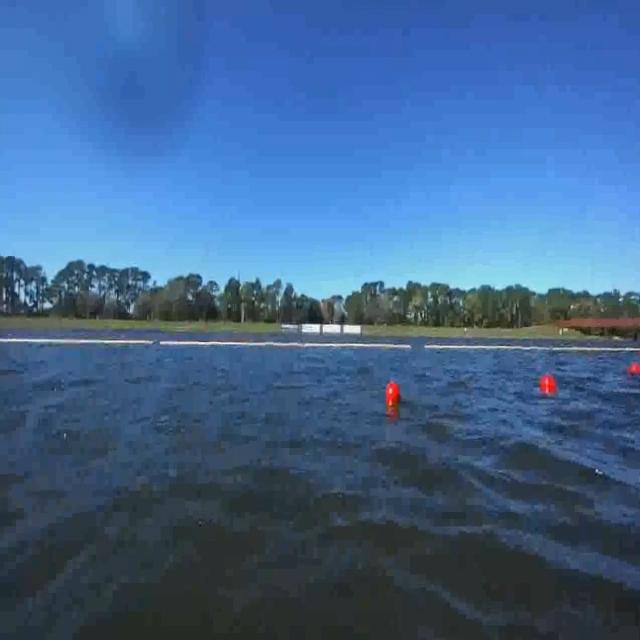red-buoy: (541, 372, 558, 394), (386, 383, 401, 406), (628, 362, 640, 375)
